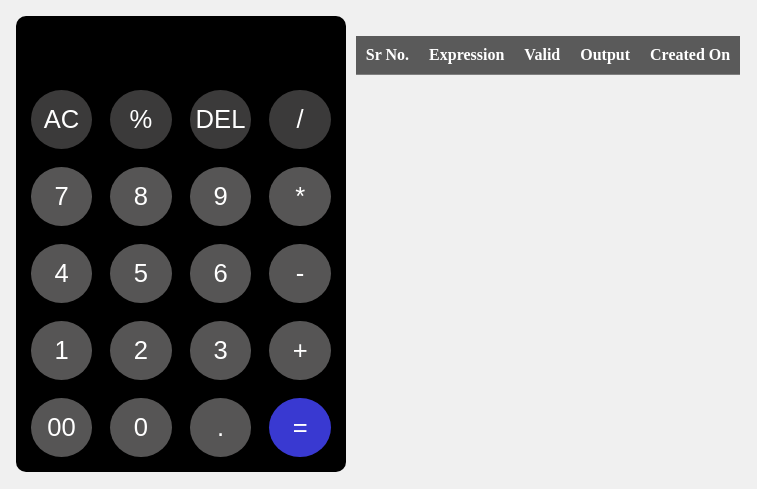
it: Calculator Component › deletes last character when DEL is pressed
The image size is (757, 489).
Click the button "5".
click(141, 274)  # box [110,244,172,303]
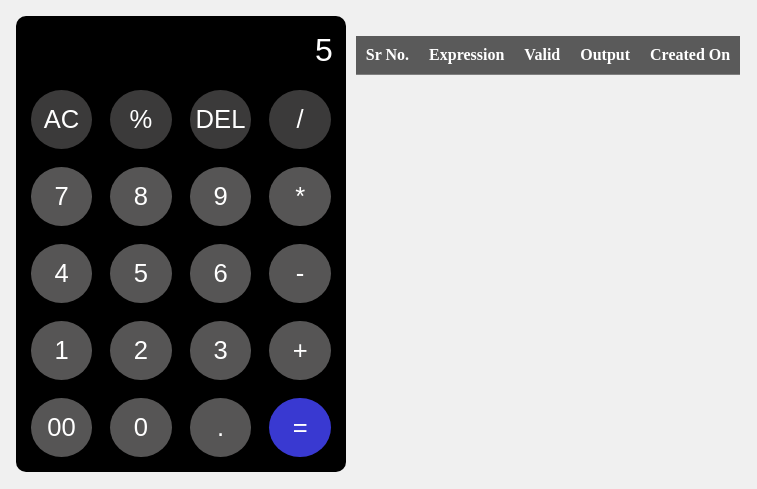
Click the button "+".
click(300, 350)  # box [269,321,331,380]
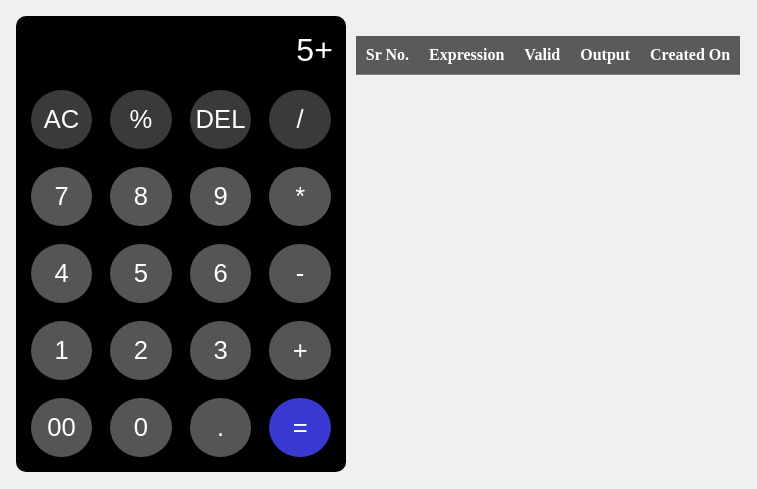
Click the button "2".
click(141, 350)  # box [110,321,172,380]
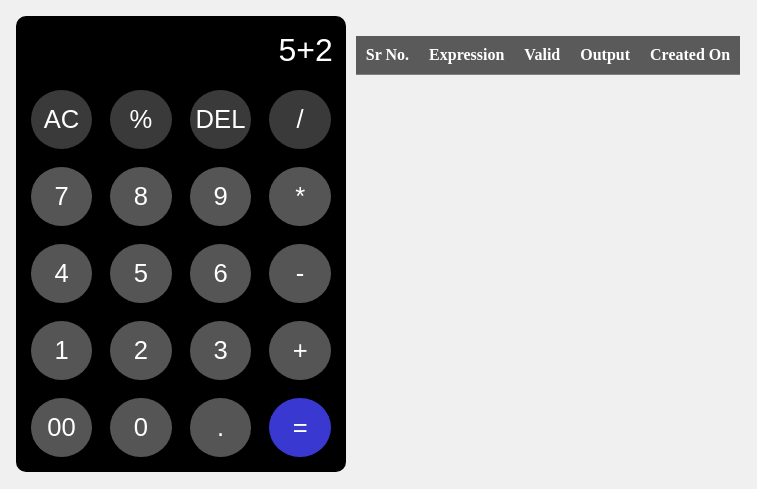
Click the button "DEL".
click(220, 120)  # box [190,90,251,149]
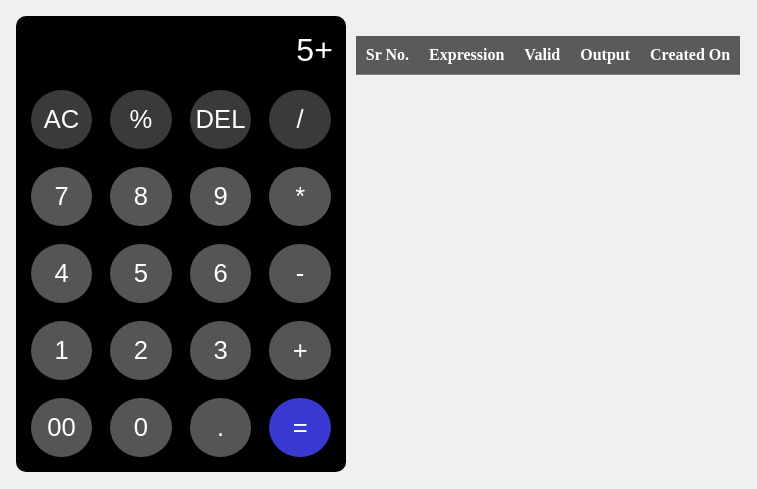
Expected: the field holds "5+", [31,31,335,70]
